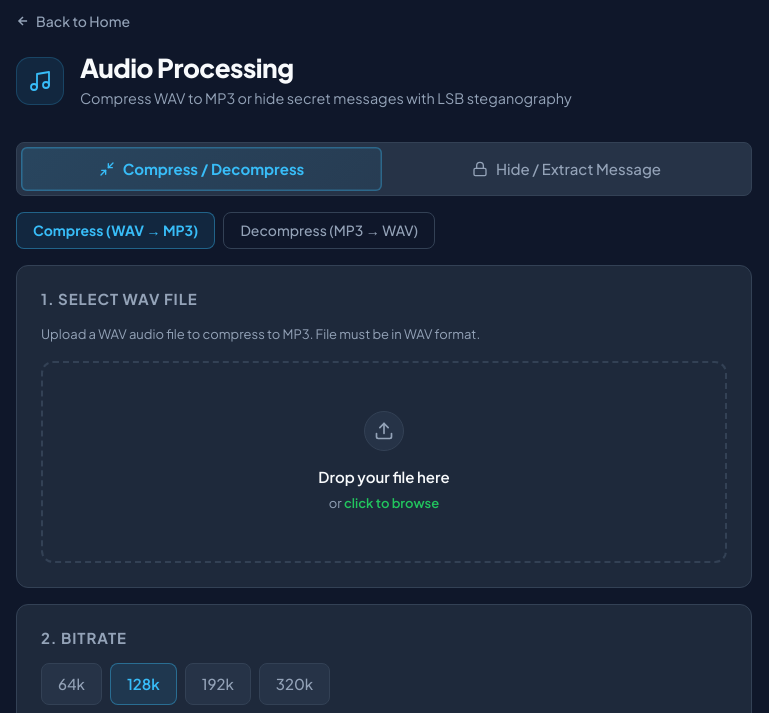
it: AudioPage › shows WAV-only hint in stego mode
Click the tab "Hide / Extract Message" at (566, 169), box x1=386 y1=147 x2=747 y2=191
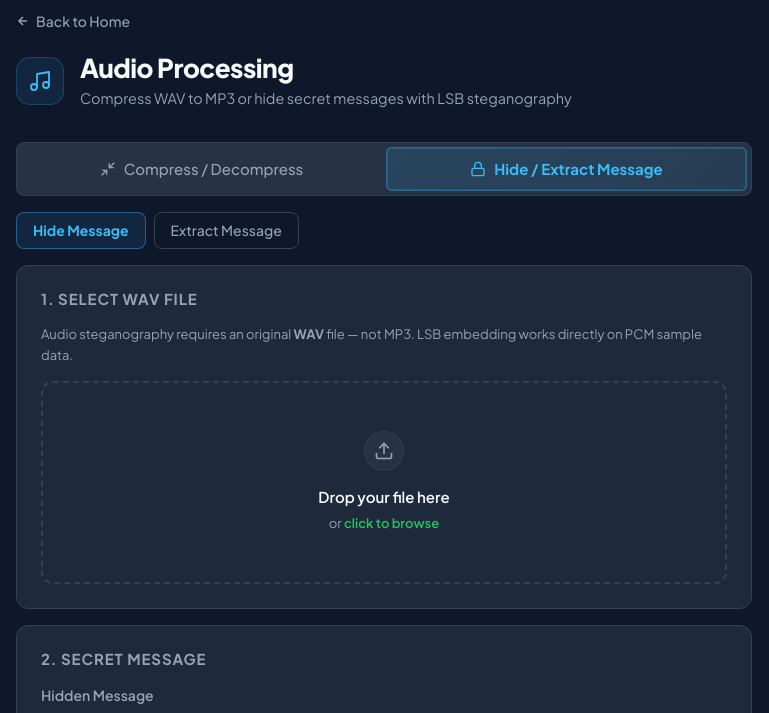
Check: the text "LSB embedding" is shown, box x1=41 y1=326 x2=702 y2=363
